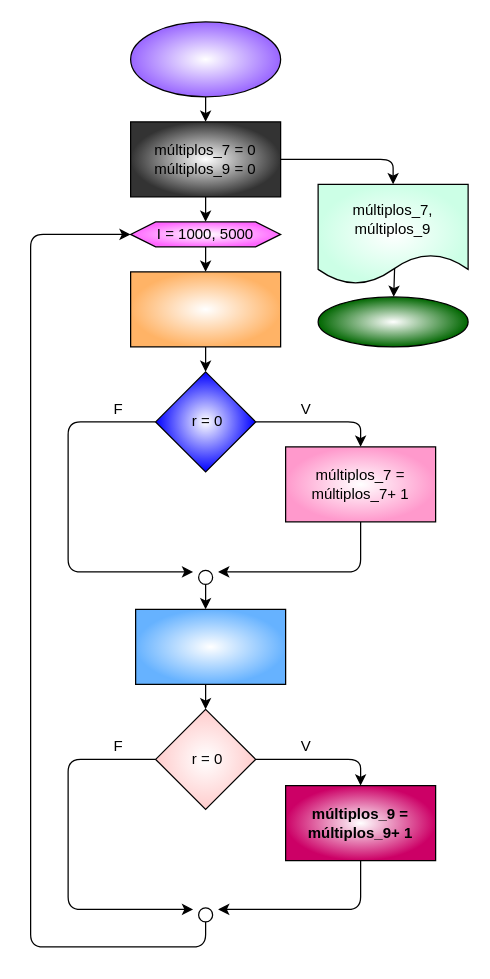
Some shapes in this 490 by 979 pixel diagram are drawn without their labels. Here are the shapes that lost their labels. From the top down, the centre of each, then its label:
At pixel 205 59: "INICIO".
At pixel 205 309: "d = [ I/7 ] r - I (7 * d)".
At pixel 392 321: "FIN".
At pixel 210 646: "d = [ I/9 ] r - I (9 * d)".
